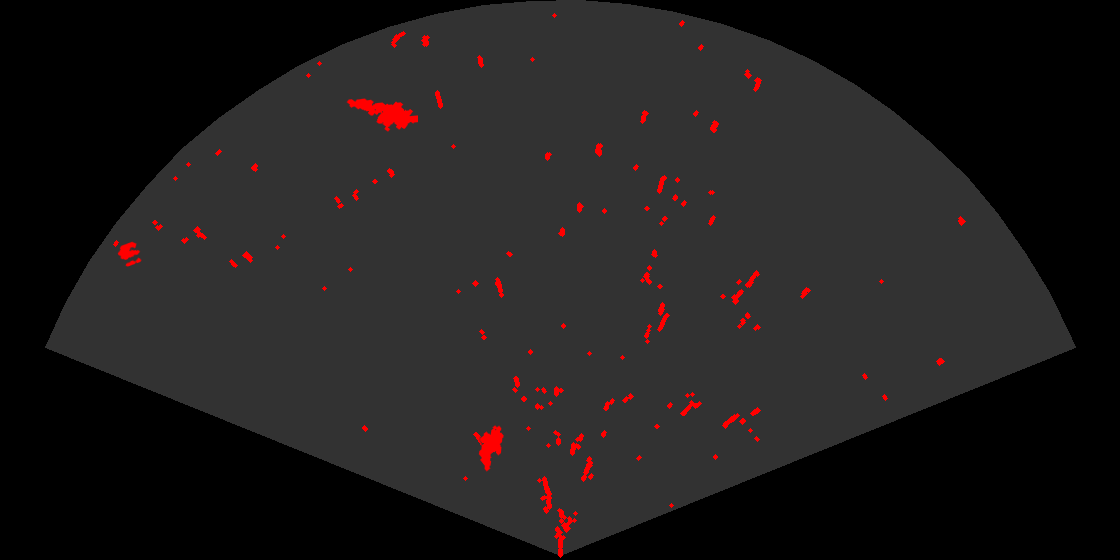AUV: (477, 424, 505, 473)
ball: (116, 240, 143, 268)
frogman: (345, 97, 418, 133)
